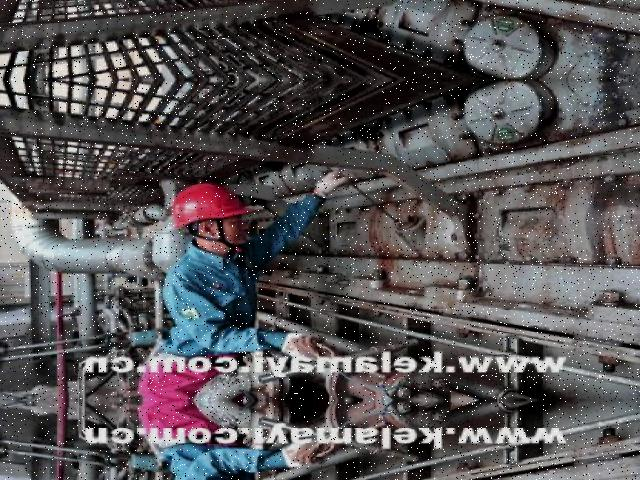Helmet: (170, 178, 260, 233)
